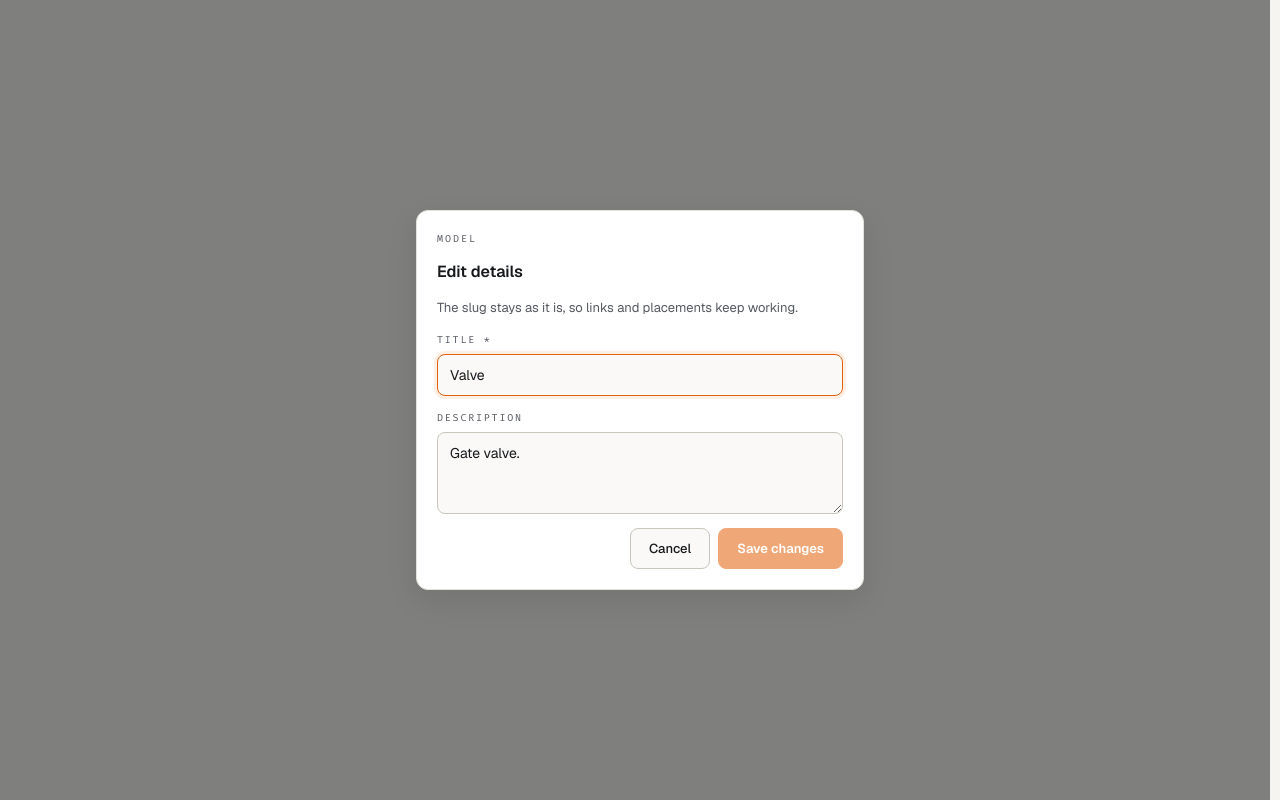
Test case: EditDetailsDialog › opens on the saved details, with Save disabled until something changes
The image size is (1280, 800).
Check: the text box labelled "Description" holds "Gate valve.", box [437, 432, 843, 514]
Check: the button "Save changes" is disabled, box [718, 528, 843, 569]
Type " B" into the field labelled "Title *" at (640,375), box [437, 354, 843, 396]
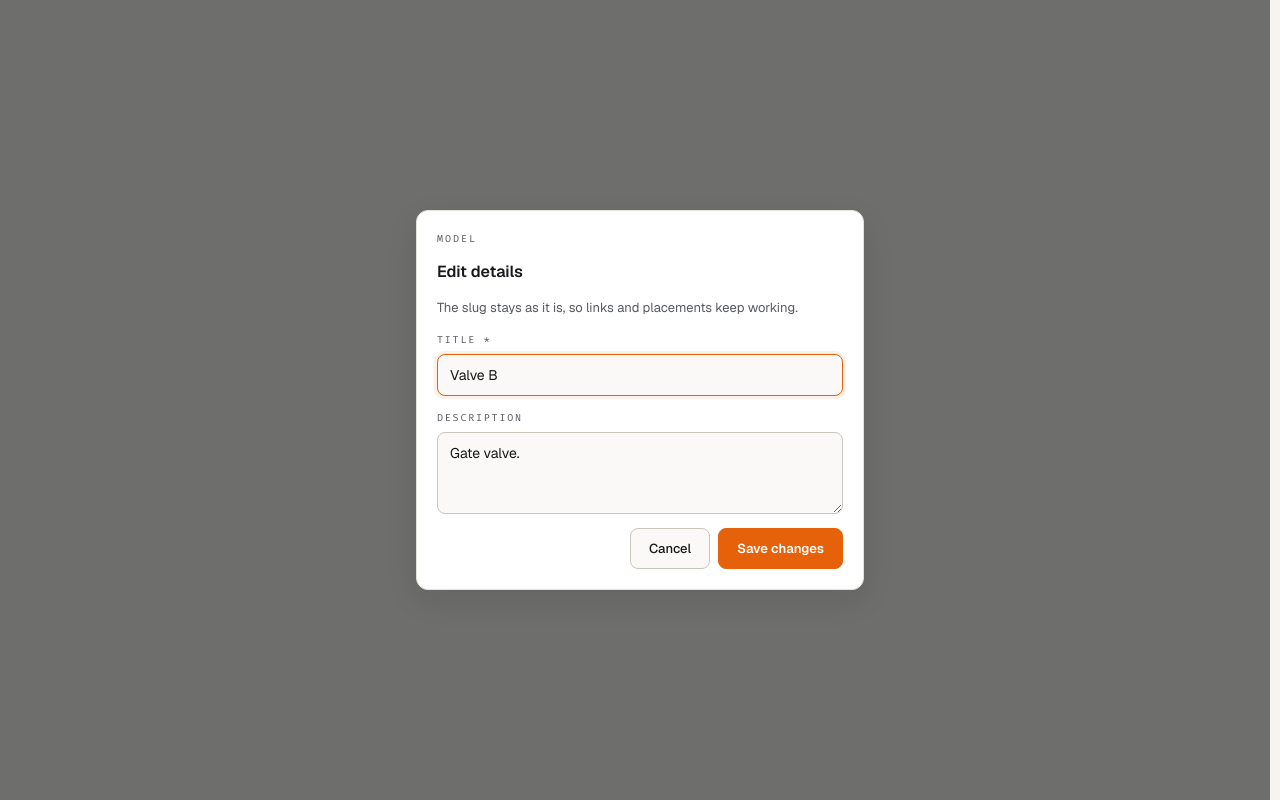
Check: the button "Save changes" is enabled, box [718, 528, 843, 569]
